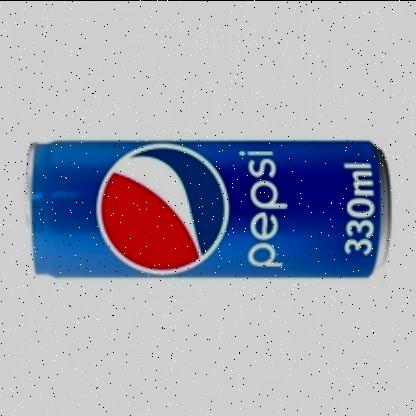Can: (28, 139, 392, 277)
